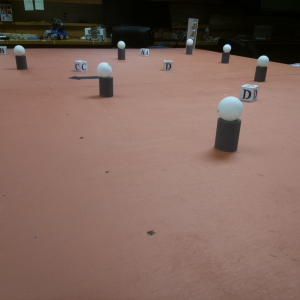blockA: (140, 48, 149, 56)
blockB: (1, 46, 8, 54)
blockC: (75, 59, 88, 73)
blockD: (239, 84, 260, 102), (163, 60, 174, 72)
corner: (186, 17, 198, 47)
obstacle: (216, 97, 243, 151), (98, 62, 116, 100), (14, 44, 28, 70), (255, 55, 268, 81), (221, 42, 232, 63), (117, 41, 126, 59), (186, 38, 192, 54)
start: (68, 76, 102, 81)
